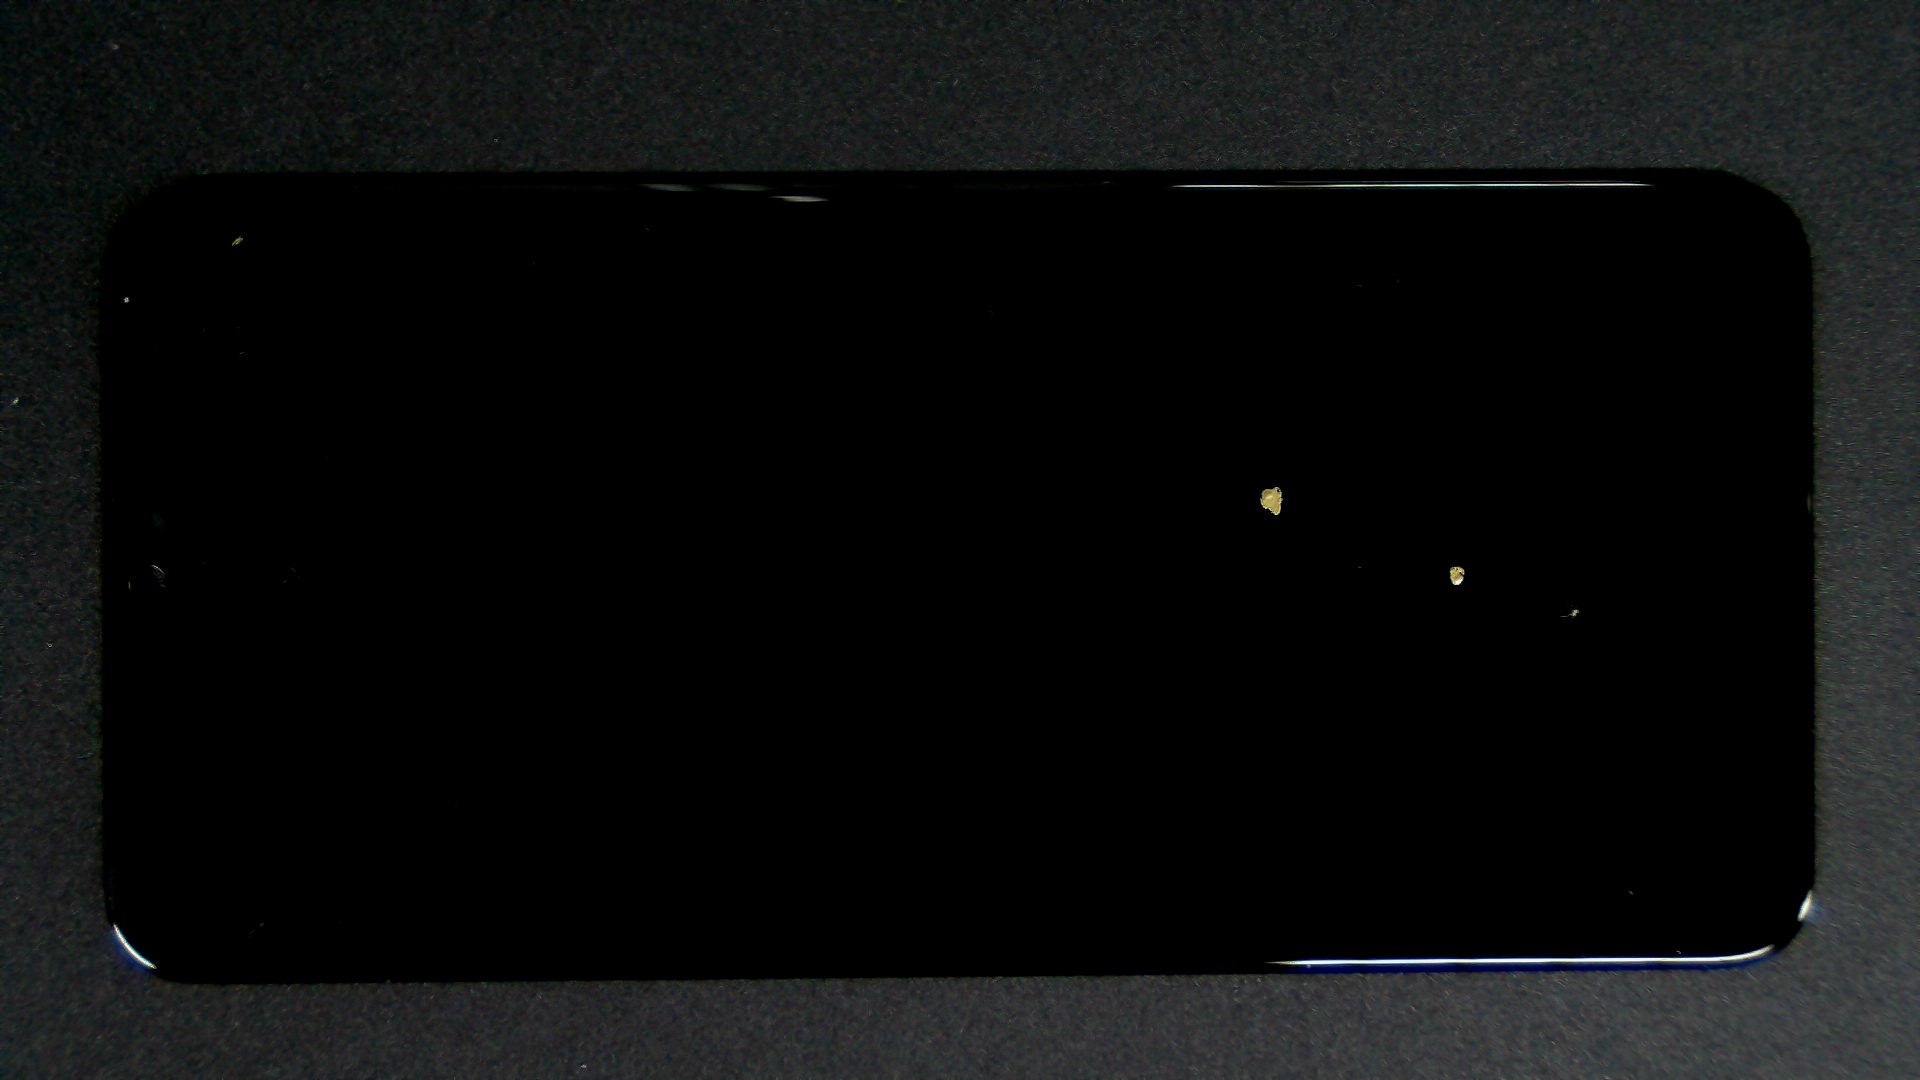oil: (727, 282, 1920, 848), (638, 243, 1909, 731)
